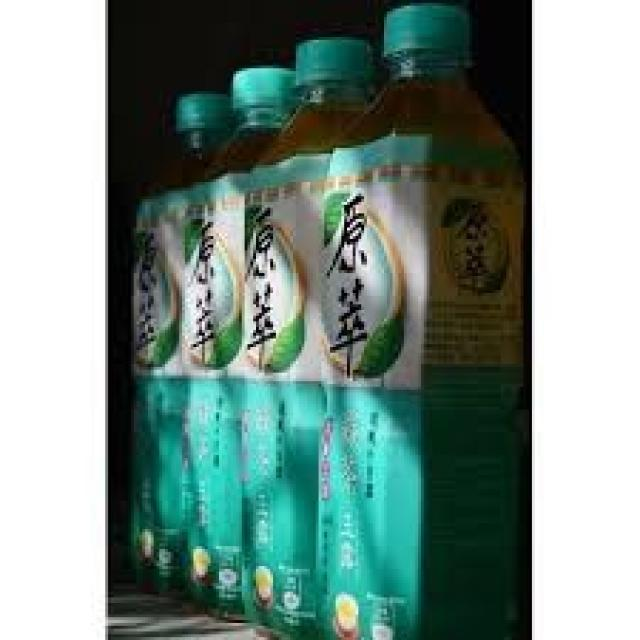YuanTsui_GreenTea: (324, 7, 512, 640), (256, 39, 378, 622), (180, 70, 242, 604), (126, 103, 170, 593)
